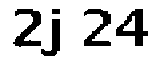2: (80, 5, 114, 51), (10, 6, 42, 48)
4: (115, 2, 154, 49)
j: (42, 2, 65, 60)
